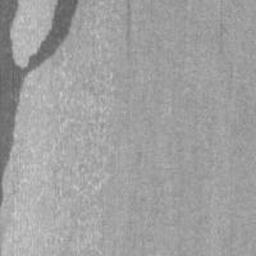Water spot: (0, 0, 81, 211), (0, 221, 8, 256)
